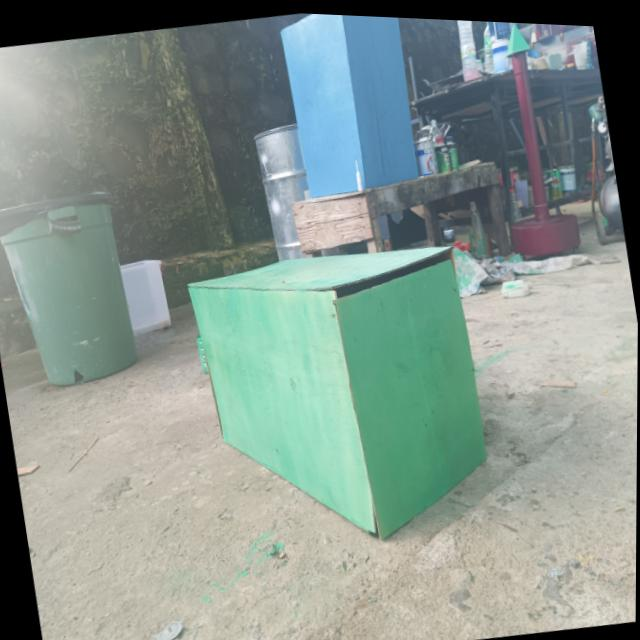green_box: (165, 195, 534, 587)
